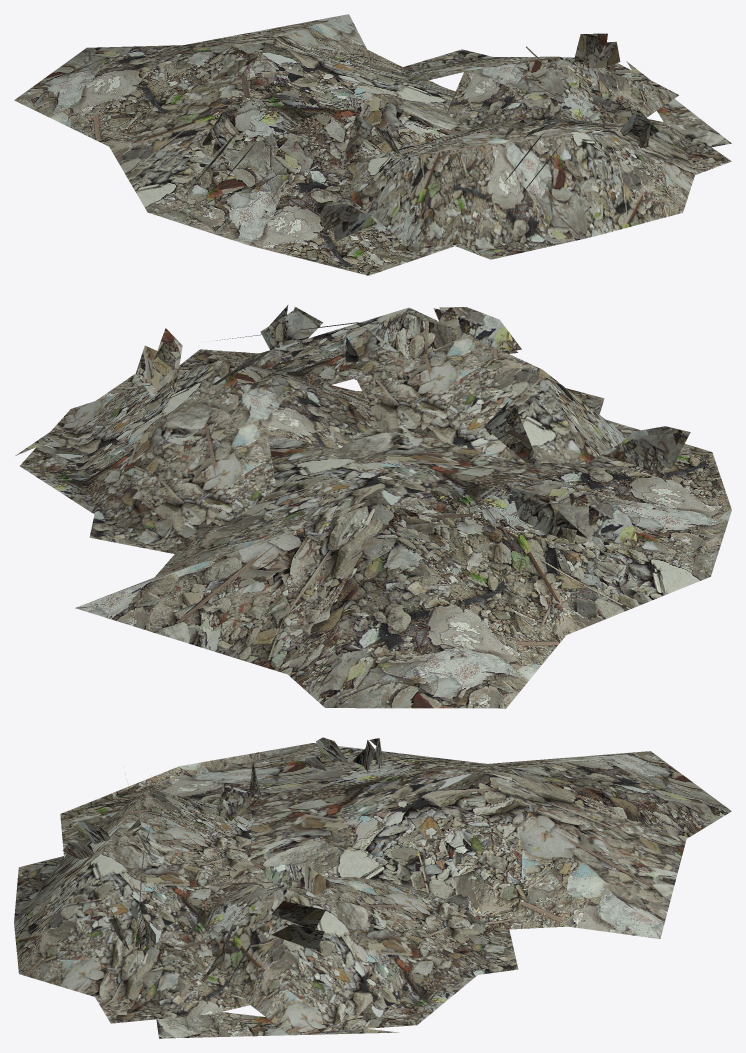
Rendered from ruins_shut1_LOD.fbx.
3 renders of one model, top to bottom at view 1: azimuth 30°, elevation 25°; view 2: azimuth 150°, elevation 25°; view 3: azimuth 270°, elevation 25°, orthographic. The views are drawn at different scales.
Parts seen in each view (by area): view 1: shutt; view 2: shutt; view 3: shutt.
Part boxes in pixels (bbox=[...]): shutt: bbox=[14, 14, 731, 275]; shutt: bbox=[15, 305, 731, 708]; shutt: bbox=[14, 737, 731, 1038].
Size of the model in its own units: 1114 by 181 by 1168.
